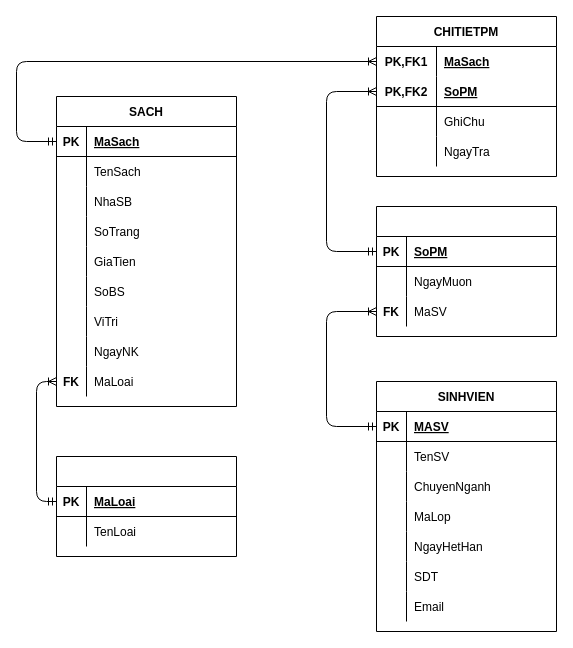
The diagram is 573 pixels wide and 648 high, and some of its shapes have lost their labels. The box of each missing label's shape, as (x1, y1, x2, y2) in pixels:
LOAISACH: (56, 456, 236, 556)
PHIEUMUON: (376, 206, 556, 336)
